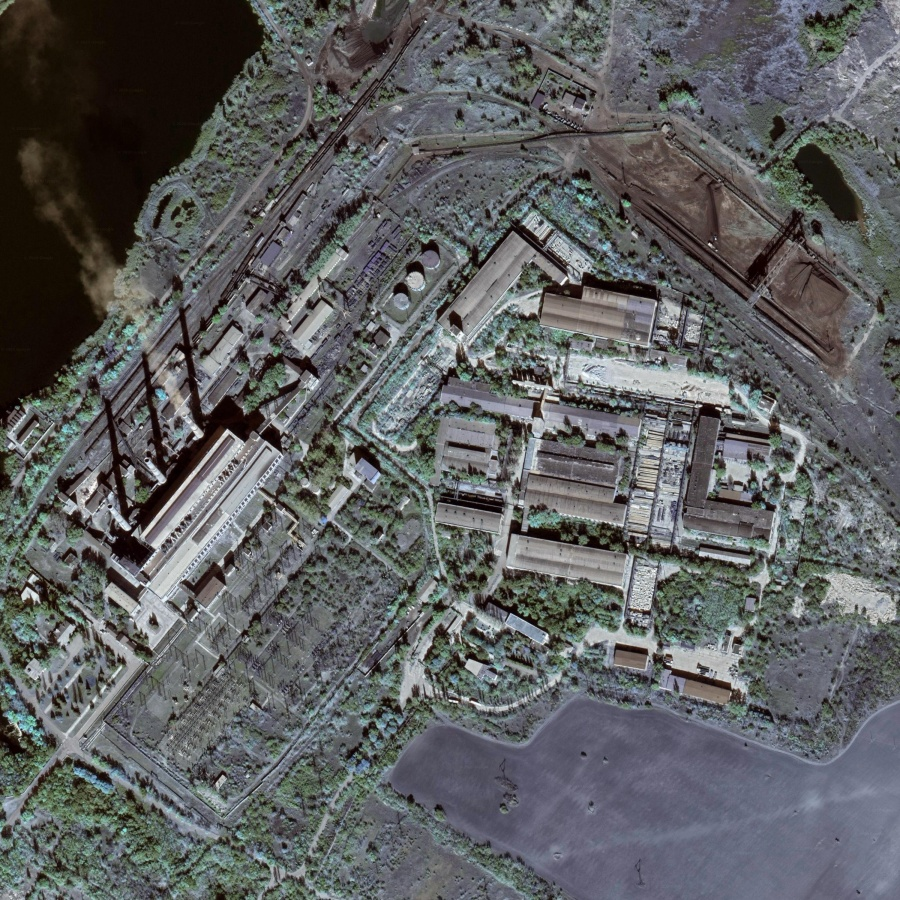PowerPlant: (67, 227, 432, 584), (564, 113, 854, 366)
